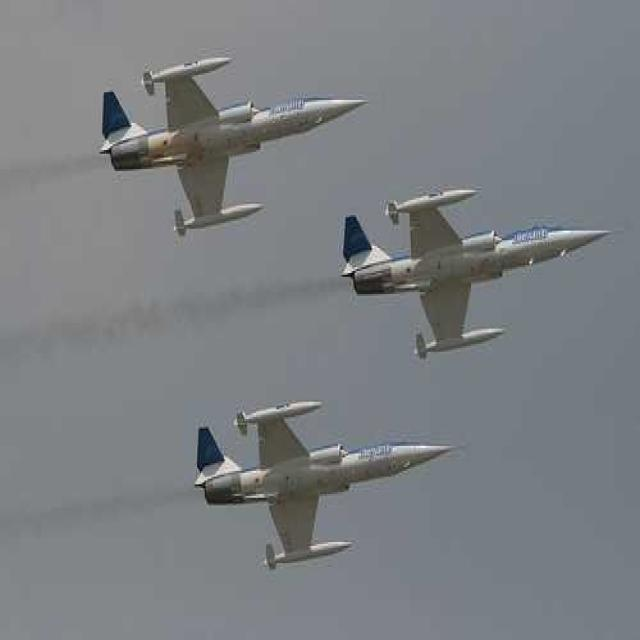missile: (342, 182, 614, 360), (97, 54, 366, 226), (196, 400, 459, 566)
